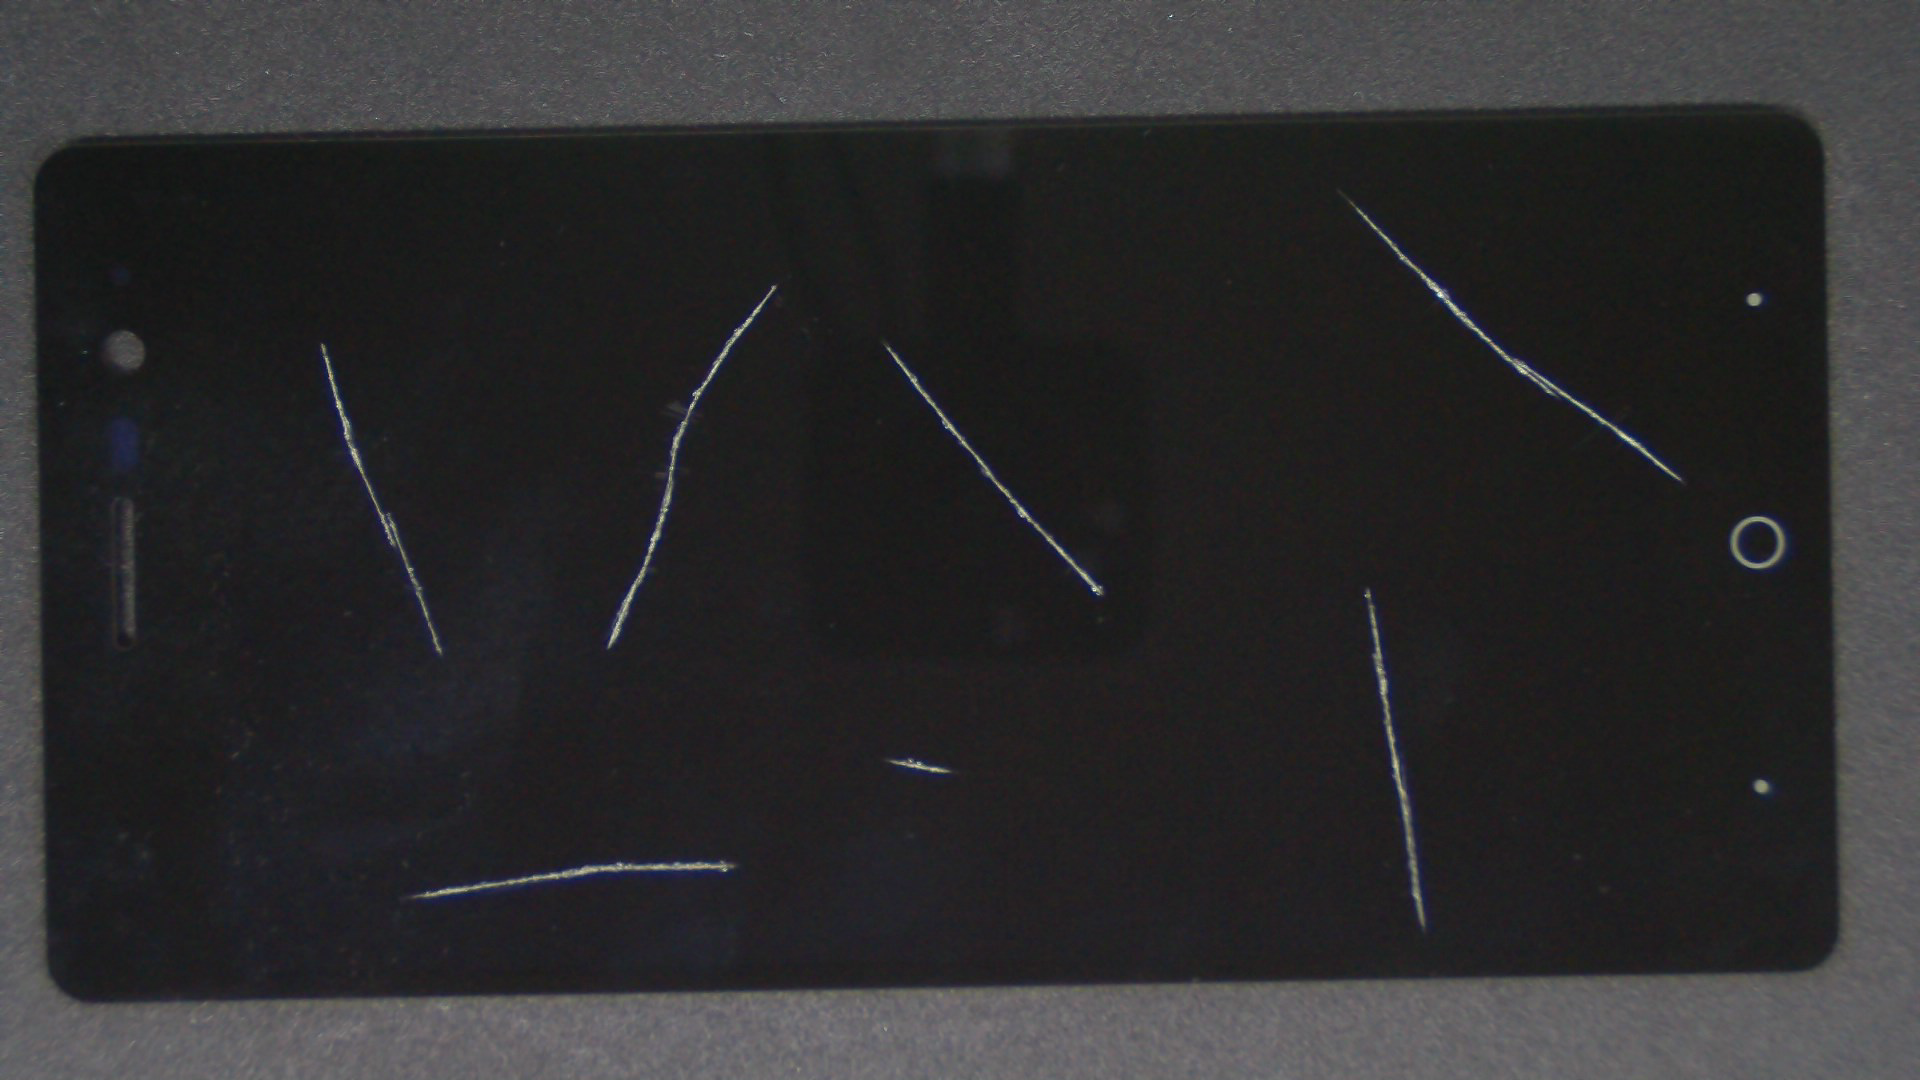defect: (1344, 195, 1687, 487), (604, 284, 779, 651), (884, 343, 1105, 597), (319, 342, 443, 657), (1362, 585, 1427, 930), (400, 858, 738, 901), (880, 756, 953, 774)
